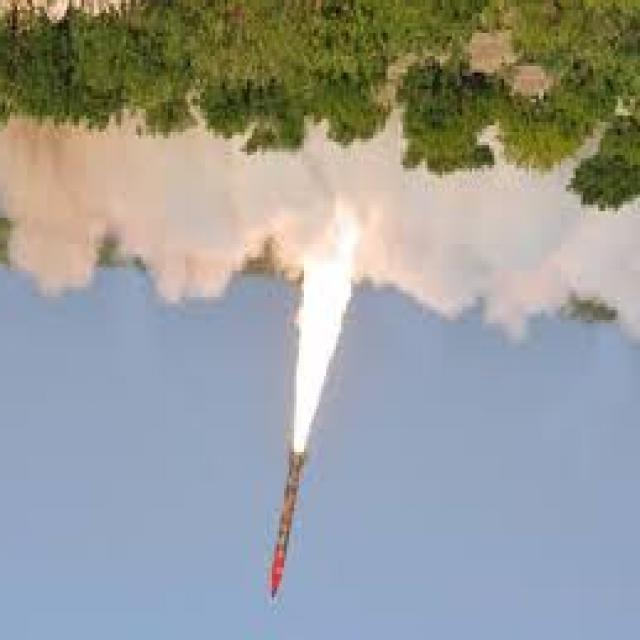Missile: (263, 445, 317, 598)
